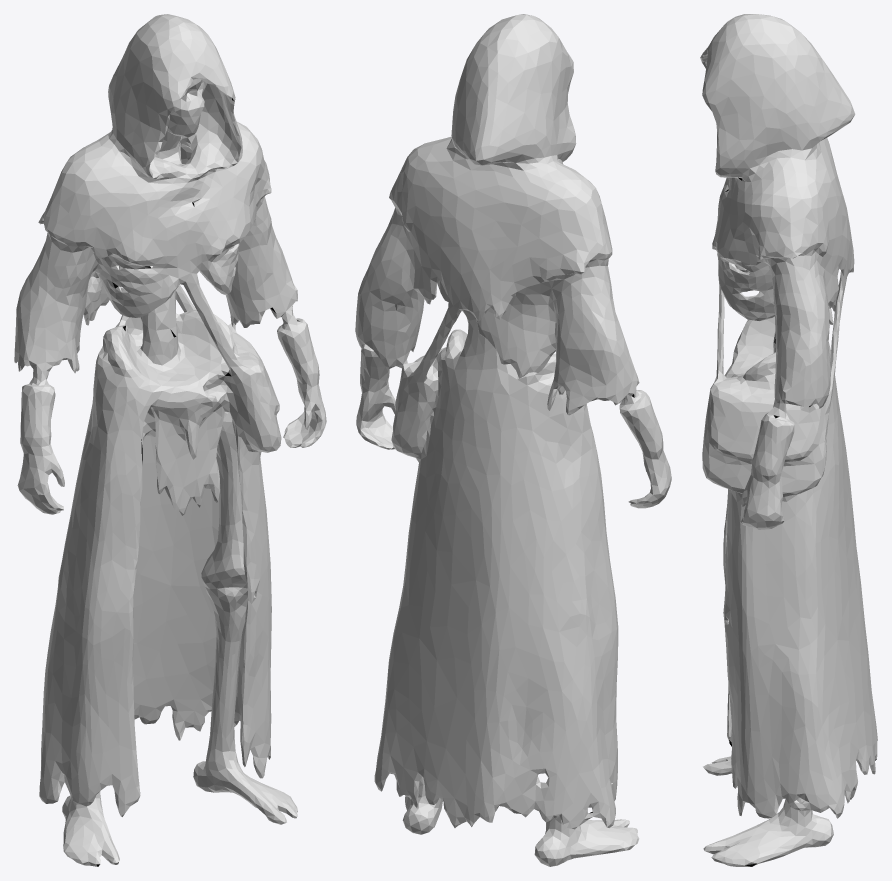
Rendered from npc_skel_trader.glb.
3 renders of one model, left to right at view 1: azimuth 30°, elevation 25°; view 2: azimuth 150°, elevation 25°; view 3: azimuth 270°, elevation 25°, orthographic.
Visible parts, largest first — view 1: Low; view 2: Low; view 3: Low.
Boxes of the visible parts, left/top/right/bottom form: Low: left=14, top=14, right=326, bottom=866; Low: left=355, top=14, right=671, bottom=866; Low: left=700, top=14, right=877, bottom=866.
Size of the model in its own units: 0.7811 by 1.98 by 0.3998.
1 material, 1 textured.
